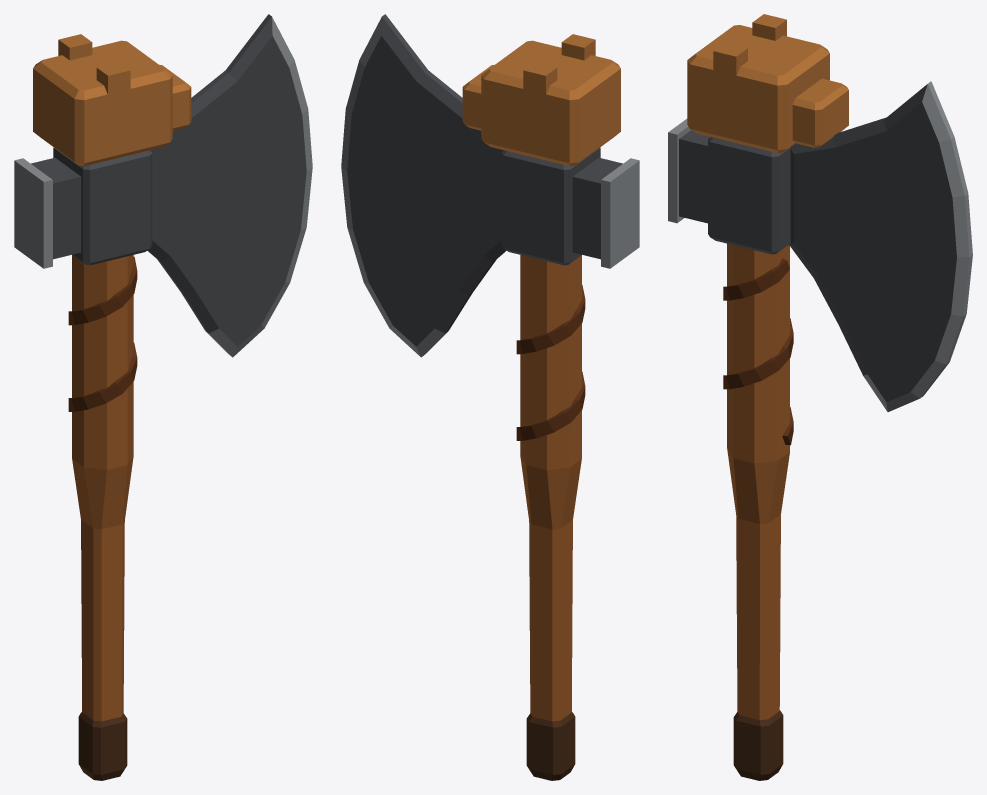
File: chopper_axe_bear.fbx
The picture shows the model from 3 angles, left to right: view 1: azimuth 30°, elevation 25°; view 2: azimuth 150°, elevation 25°; view 3: azimuth 330°, elevation 25°; orthographic projection. The views are drawn at different scales.
Parts seen in each view (by area): view 1: chopper_axe_bear; view 2: chopper_axe_bear; view 3: chopper_axe_bear.
Boxes of the visible parts, box(x1,y1,x2,y2) form: chopper_axe_bear: box(14, 14, 312, 780); chopper_axe_bear: box(341, 14, 639, 780); chopper_axe_bear: box(668, 14, 972, 780).
Bounding box in the file's own units: 0.374 × 0.912 × 0.114.
